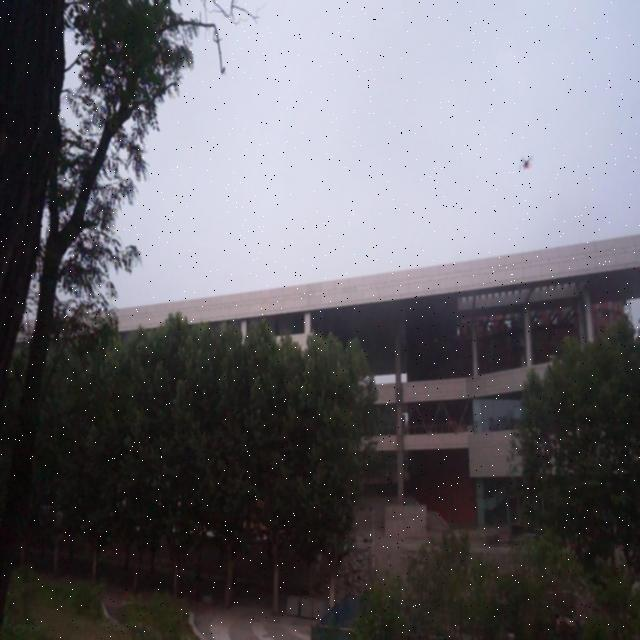UAV: (519, 155, 533, 171)
